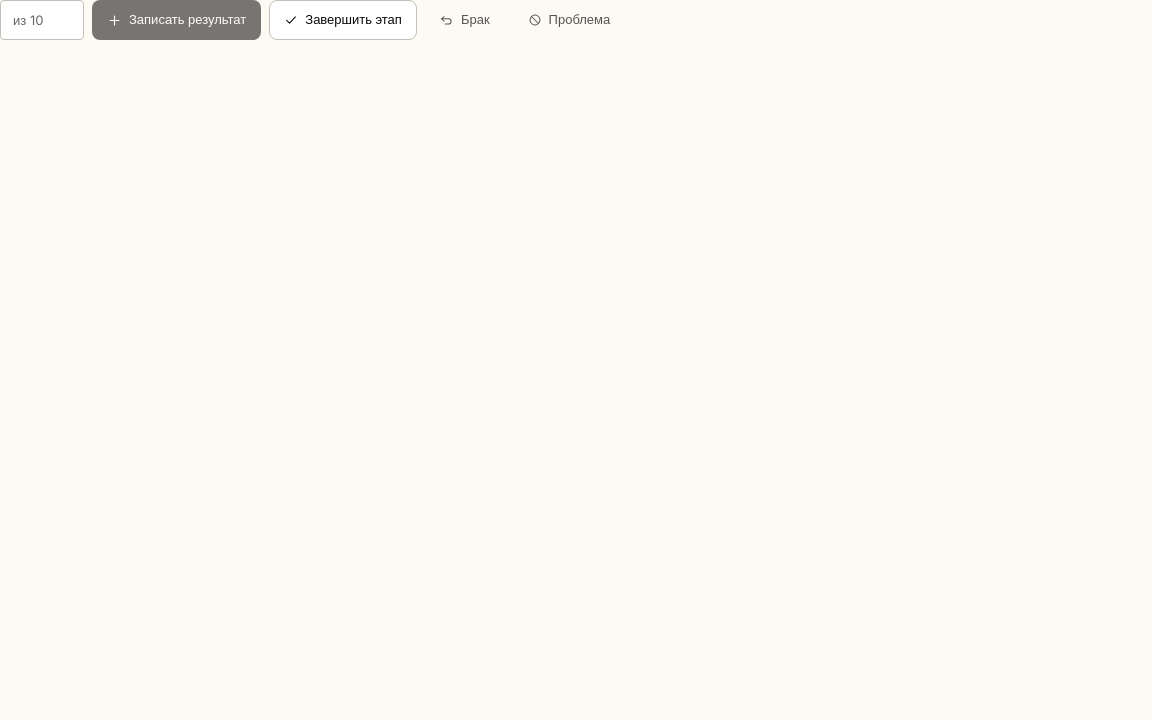
it: StageActionsPanel — мастер брака › подпись поля называет ЦЕХ-получателя — он меняется вместе с «Где устранять»
This screenshot has width=1152, height=720.
Click the button "Брак": {"x": 465, "y": 20} [425,0,505,40]
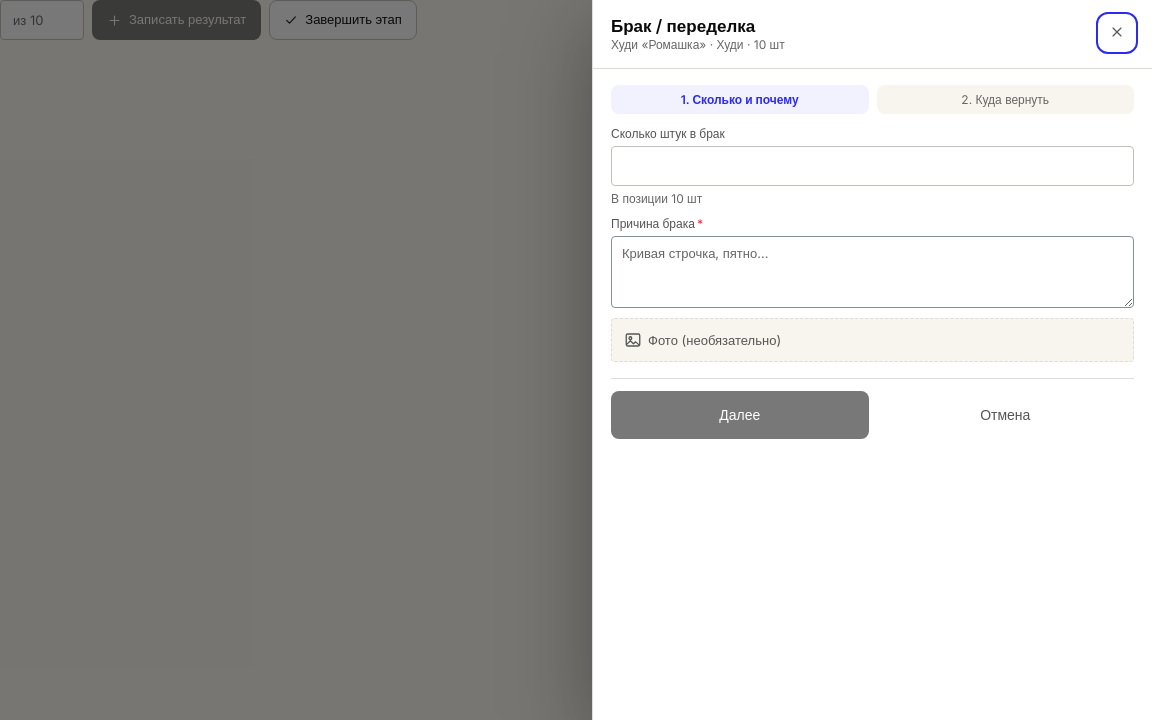
In the number field labelled "Сколько штук в брак": {"x": 872, "y": 166} [611,146,1134,186], type "1"
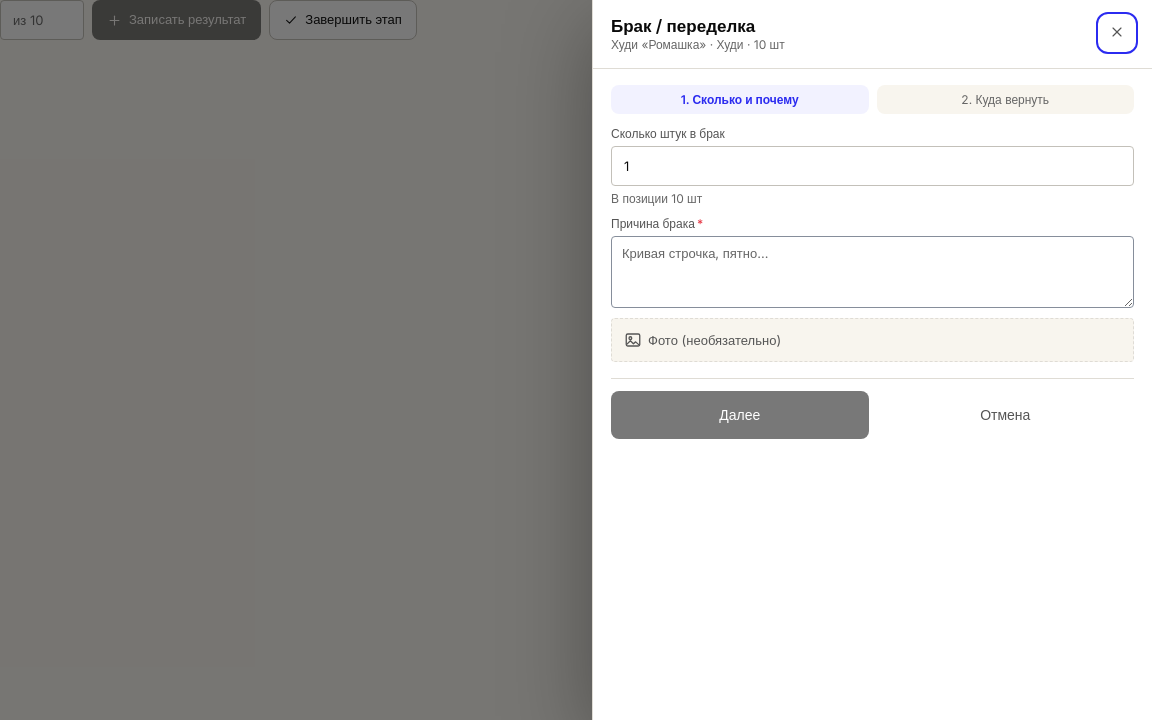
In the text box labelled "Причина брака*": {"x": 872, "y": 272} [611,236,1134,308], type "Брак кроя"
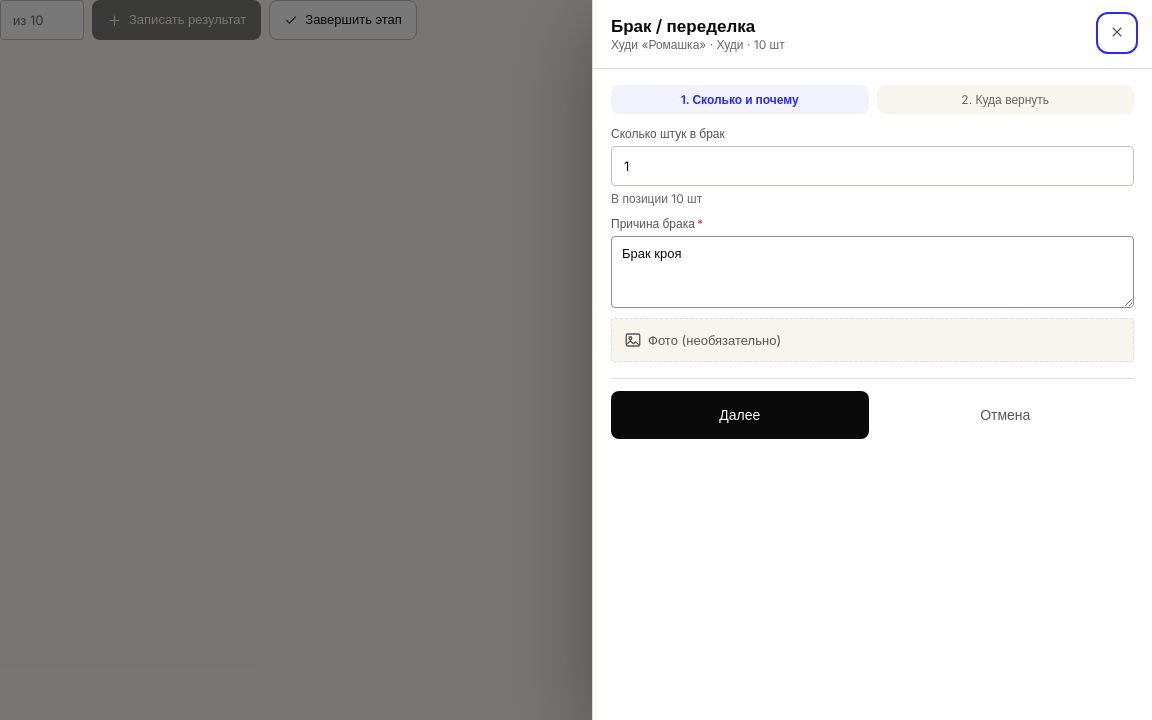
Click the button "Далее": {"x": 740, "y": 415} [611,391,868,439]
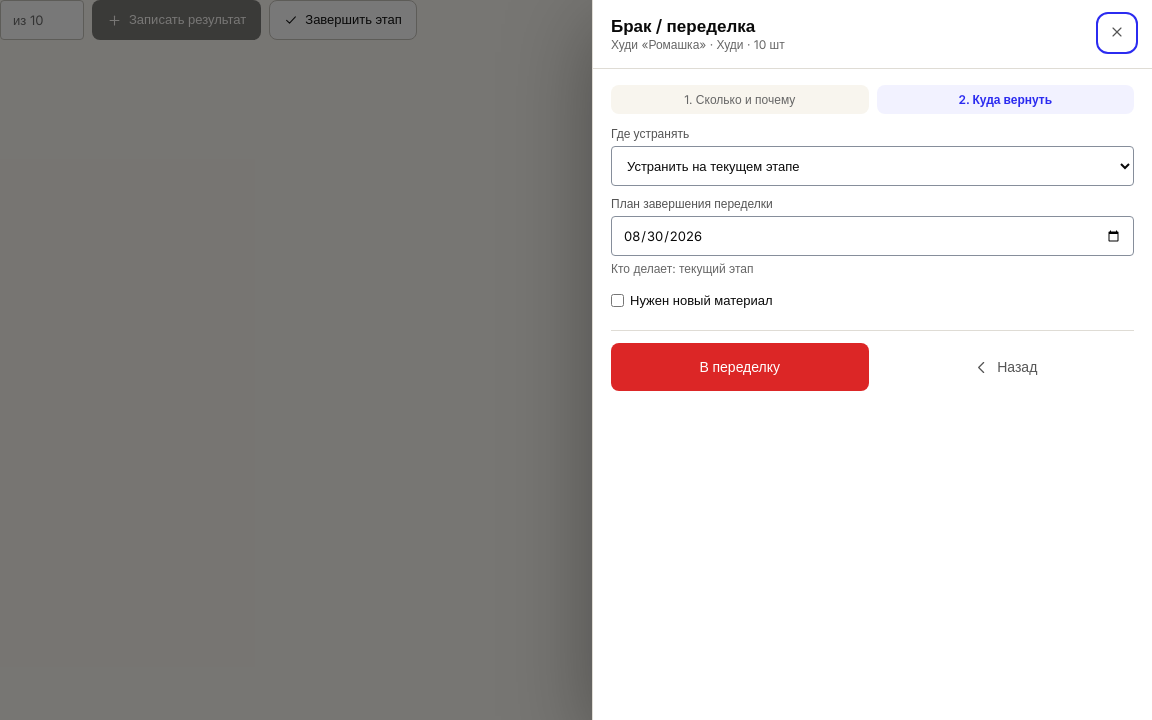
Select "Вернуть: Закрой" in the dropdown labelled "Где устранять": {"x": 872, "y": 166} [611,146,1134,186]
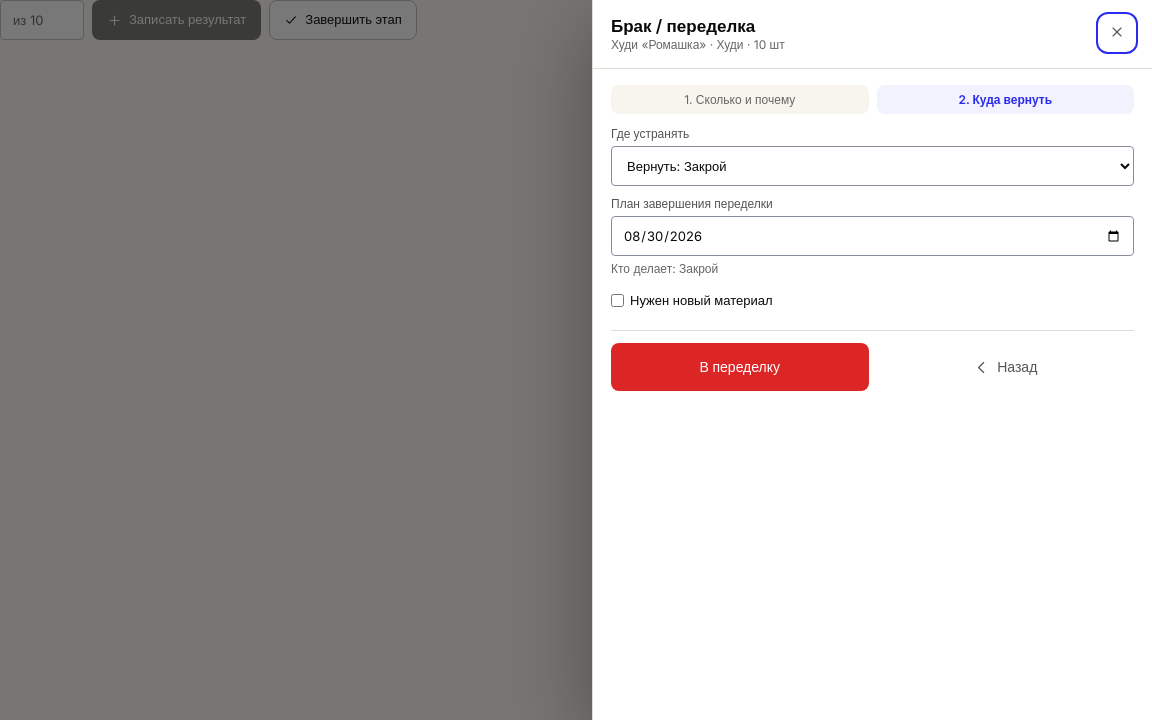
Now the text "Кто делает: Закрой" is shown, box [611,261,718,276]
